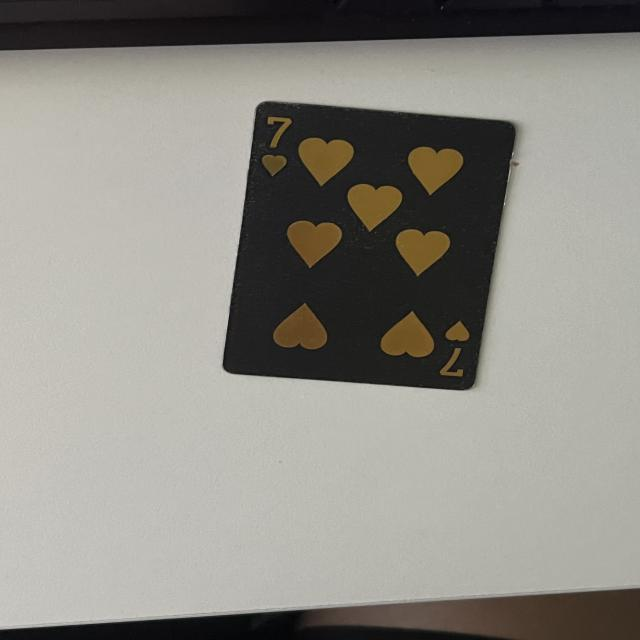7H: (255, 111, 295, 179), (437, 314, 472, 381)
